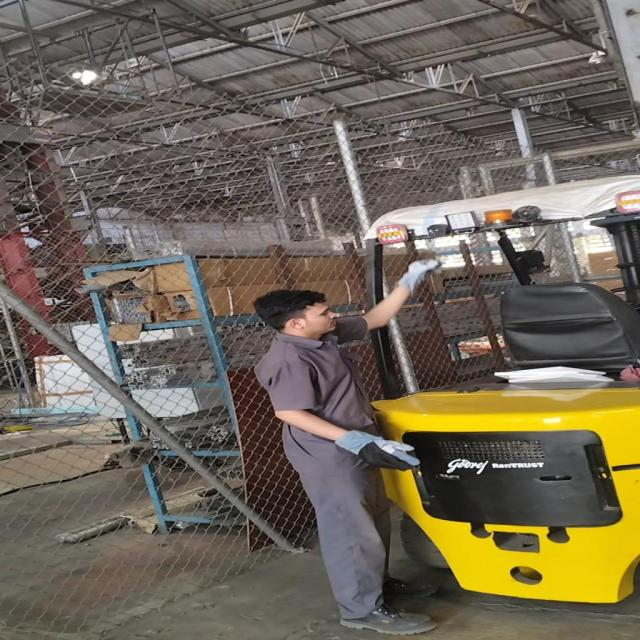Gloves-Detection: (332, 426, 423, 480), (390, 253, 432, 297)
